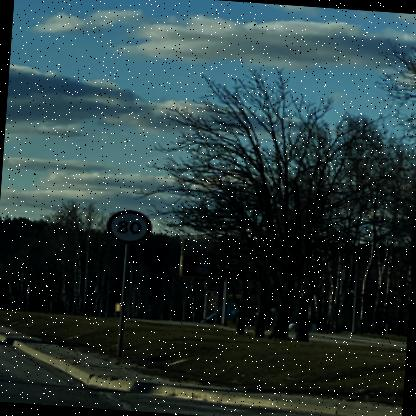speedlimit: (103, 206, 150, 244)
